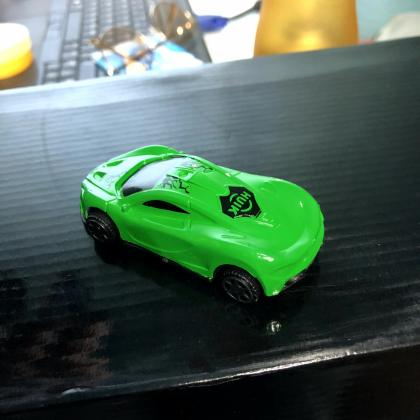Car: (79, 145, 325, 305)
